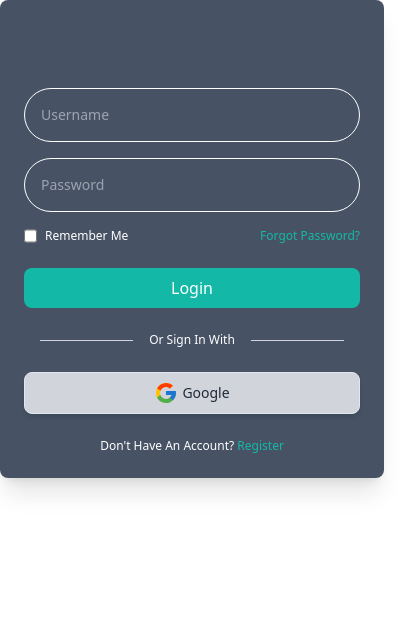
it: LoginForm › LoginForm Valid Tests › should successfully login with valid email and password
Note: Simulate entering valid credentials
In the field with placeholder "Username": (192, 115) [33, 97, 351, 133], type "test-user@example.com"
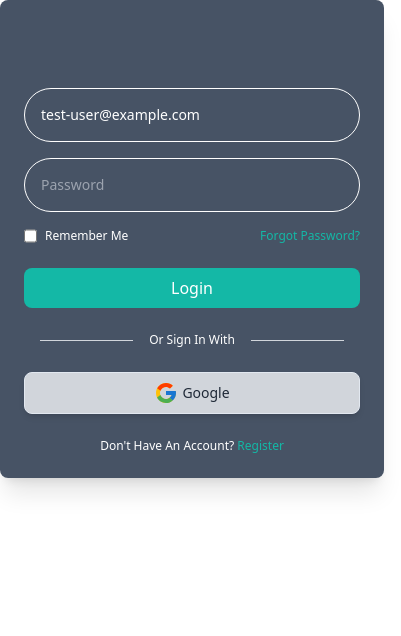
In the password field with placeholder "Password": (192, 185) [33, 167, 351, 203], type "ValidPassword123"
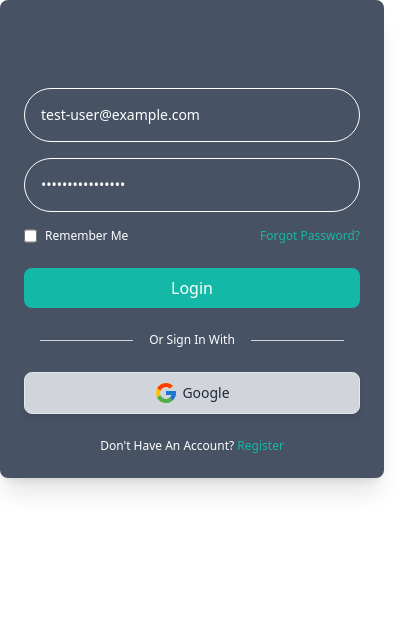
Note: Simulate clicking the login button
Click the button "Login": (192, 288) [24, 268, 360, 308]
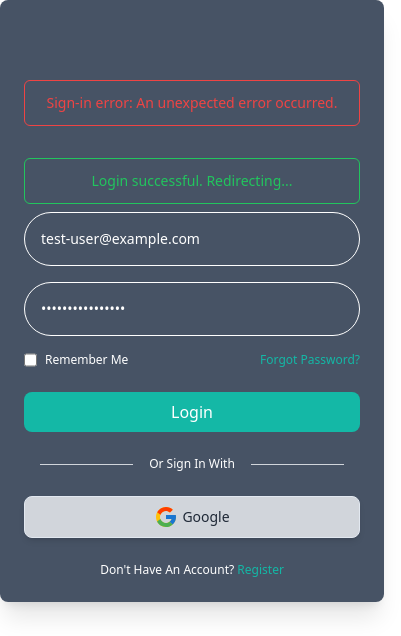
Check: the text "Login successful. Redirecting..." is shown, box [24, 158, 360, 204]
